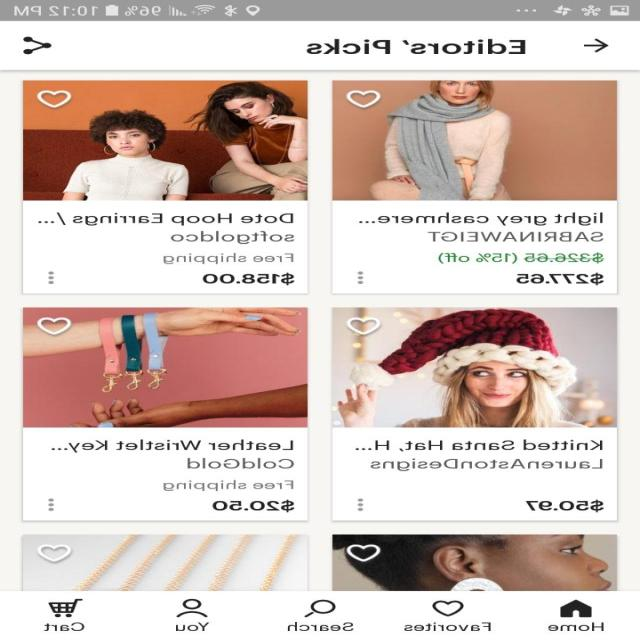Icon: (48, 598, 84, 617), (346, 544, 382, 562), (37, 544, 72, 562), (38, 317, 73, 335), (37, 90, 72, 108), (176, 598, 209, 617), (346, 91, 380, 108), (305, 599, 337, 617), (560, 599, 592, 617), (432, 599, 465, 616), (23, 36, 53, 54), (346, 318, 379, 334), (584, 38, 610, 52), (48, 271, 56, 284), (49, 498, 55, 510), (358, 271, 363, 284), (358, 498, 363, 510)
Image: (23, 307, 309, 428), (332, 307, 617, 428), (332, 80, 617, 201), (24, 80, 308, 201), (332, 534, 618, 591), (24, 534, 308, 591)
Text: (38, 212, 295, 244), (356, 439, 604, 470), (52, 438, 296, 469), (359, 212, 604, 242), (306, 39, 526, 54), (438, 252, 606, 264), (163, 479, 294, 492), (163, 252, 294, 264), (516, 272, 604, 286), (203, 272, 296, 285), (212, 499, 296, 512), (526, 500, 604, 512), (404, 621, 492, 631), (288, 621, 355, 631), (548, 622, 604, 630), (176, 621, 211, 631), (46, 622, 86, 630)
